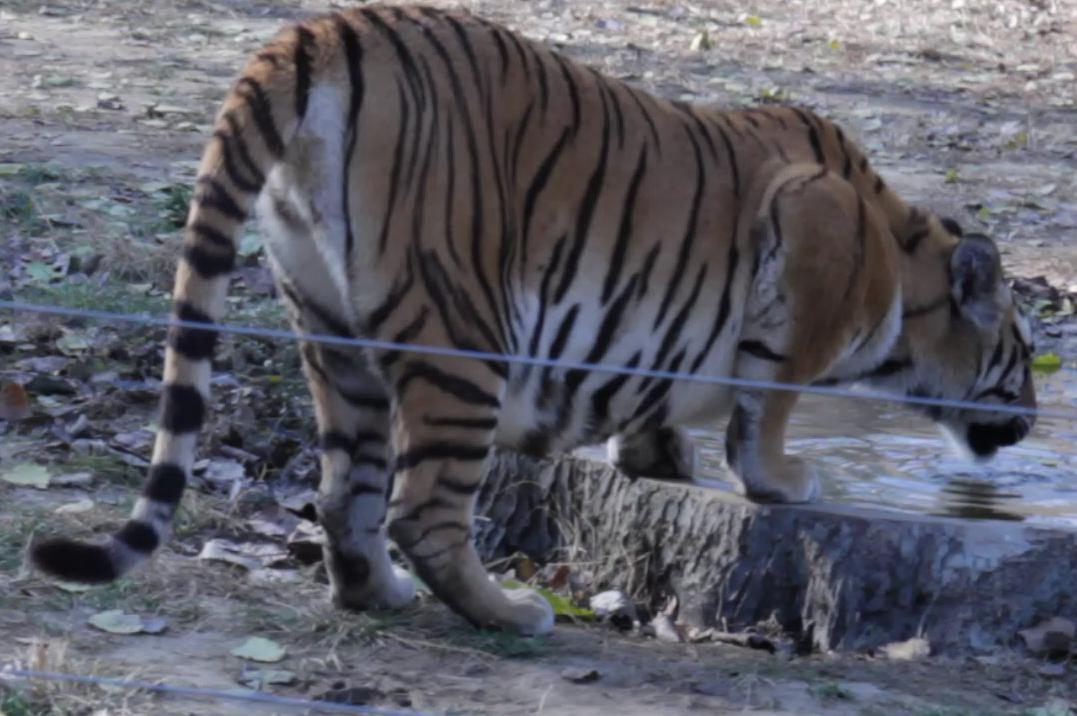tiger: (31, 7, 1033, 632)
